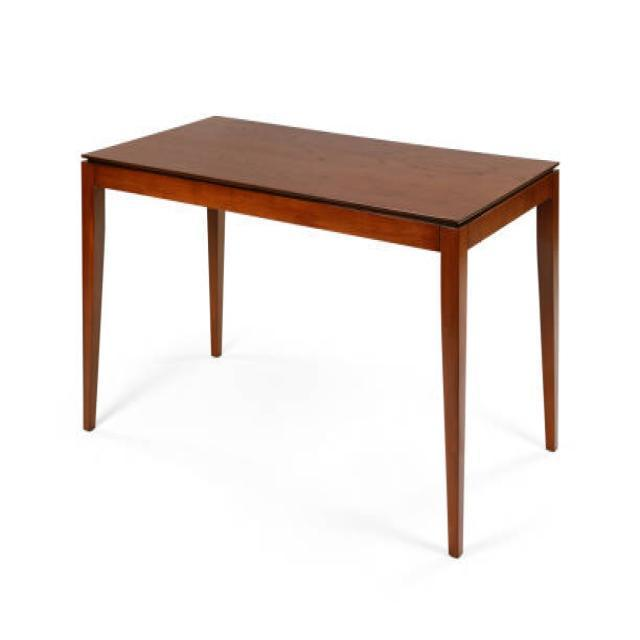table: (80, 111, 560, 558)
